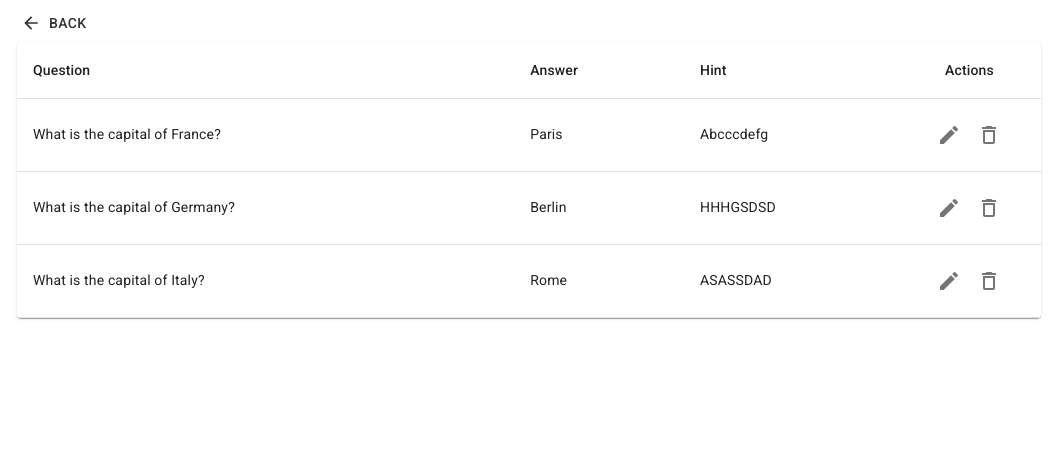
Test: Card table component › should show 3 input fields and a button with text "Save" after clicking any edit button
This screenshot has width=1059, height=462.
Click the button named "edit" in the row of "What is the capital of France?". click: (949, 134)
box: [929,114,969,154]
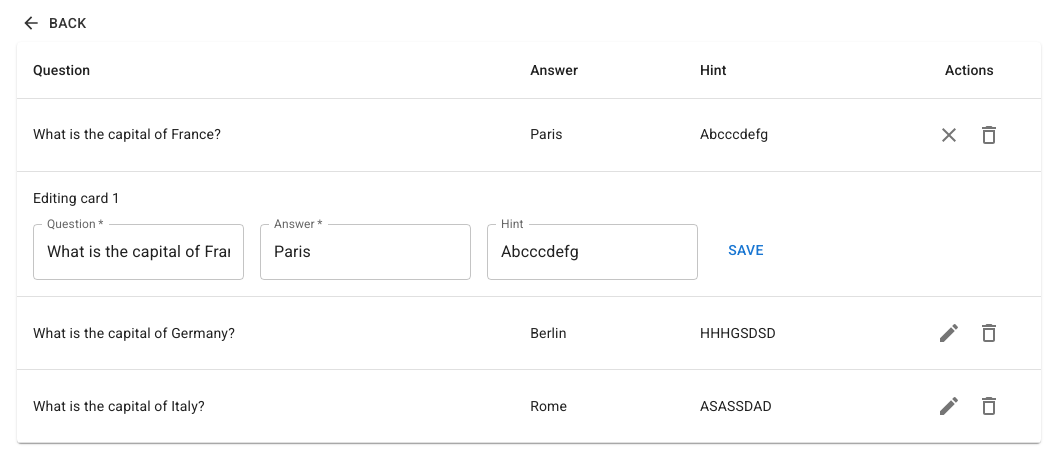
Now the number of fields is 3, box [33,224,244,280]; [260,224,471,280]; [487,224,698,280]
Now the button "Save" is shown, box [714,232,778,268]
